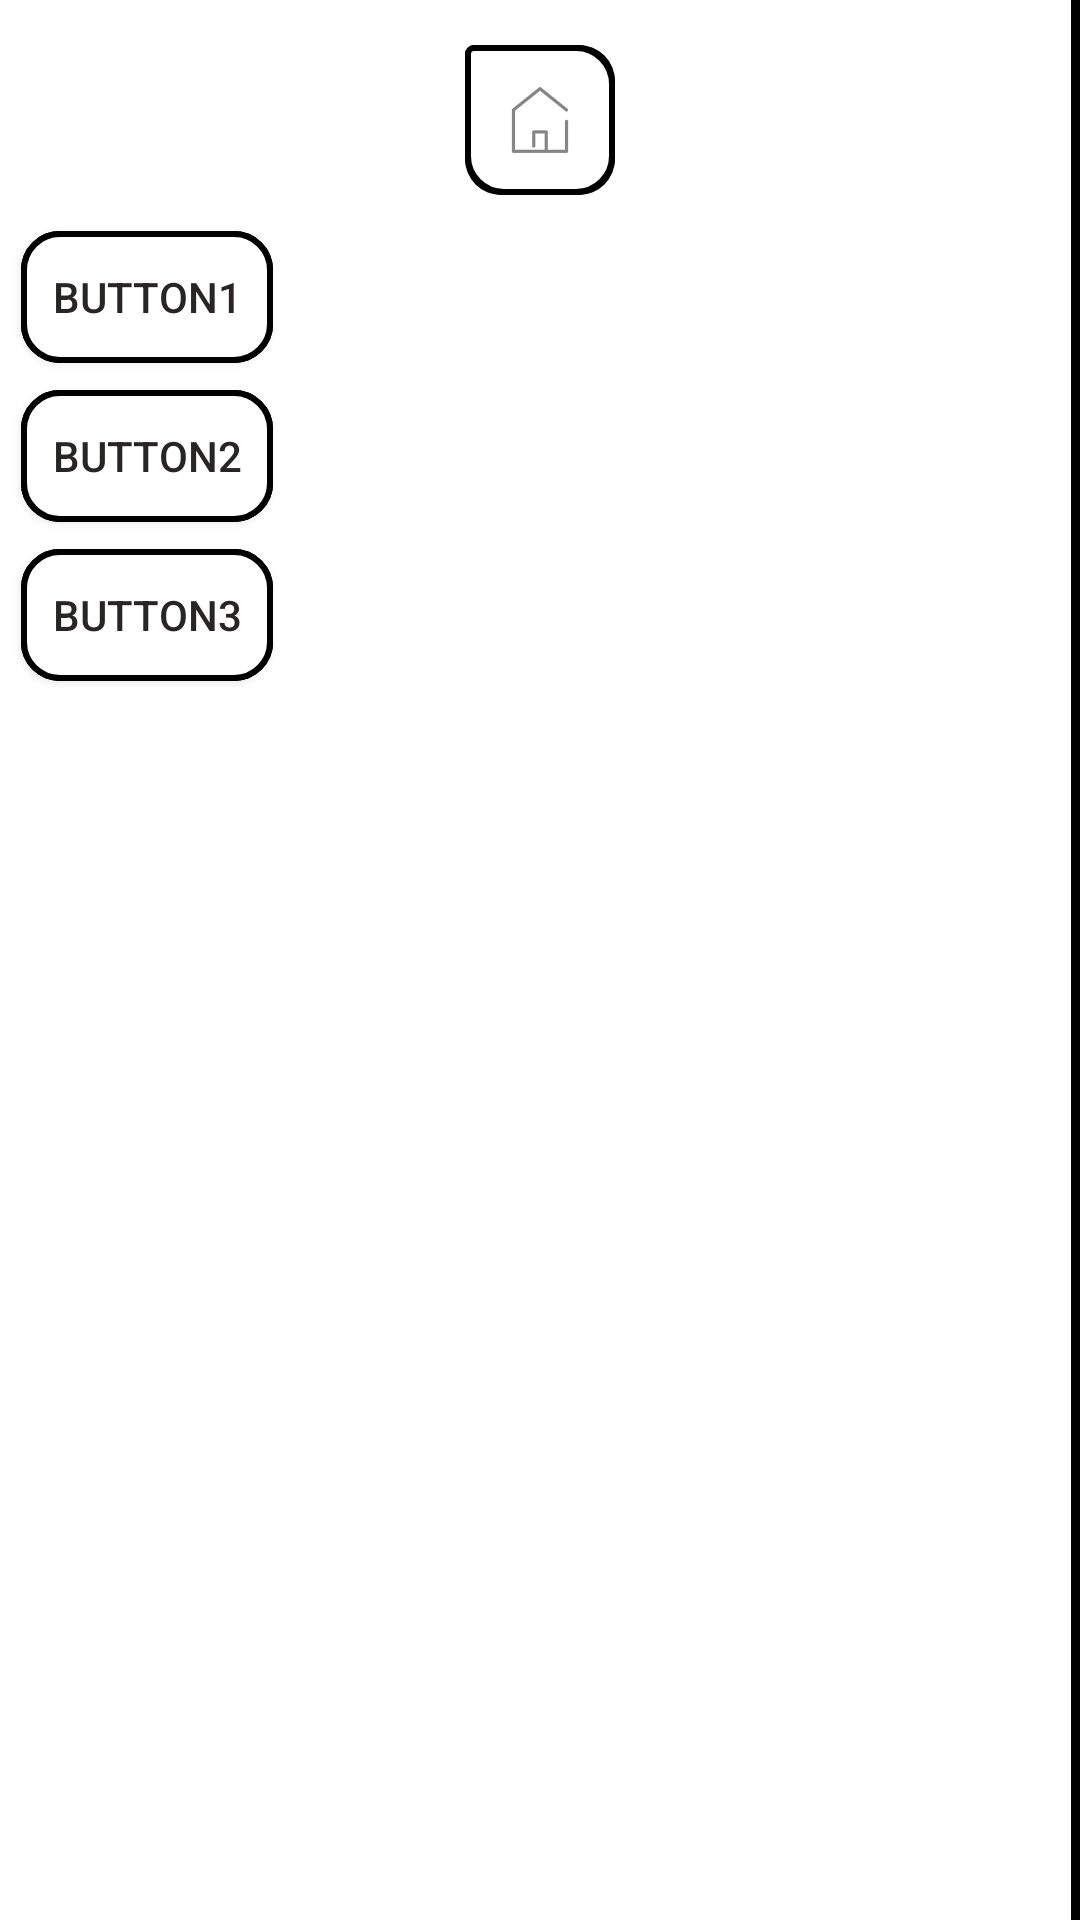

Where icons sit on this 1080px×1920px app screen, as [x1, y1, x2, y2]:
home: [465, 45, 615, 195]
